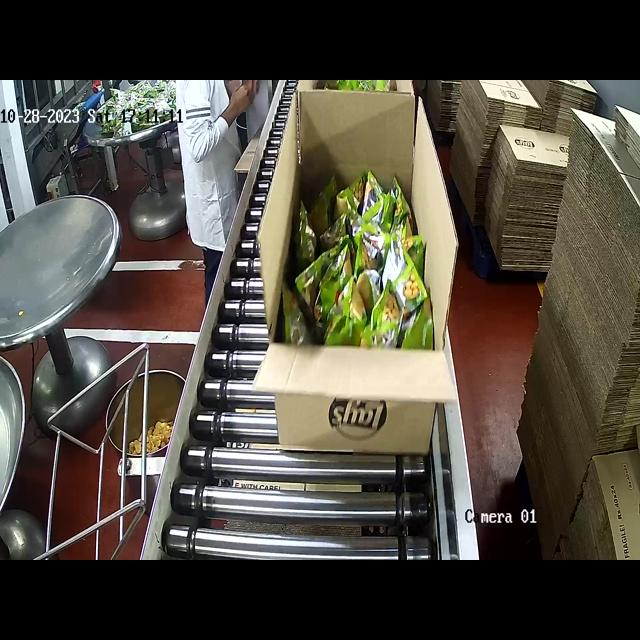yogurt: (281, 169, 433, 349)
